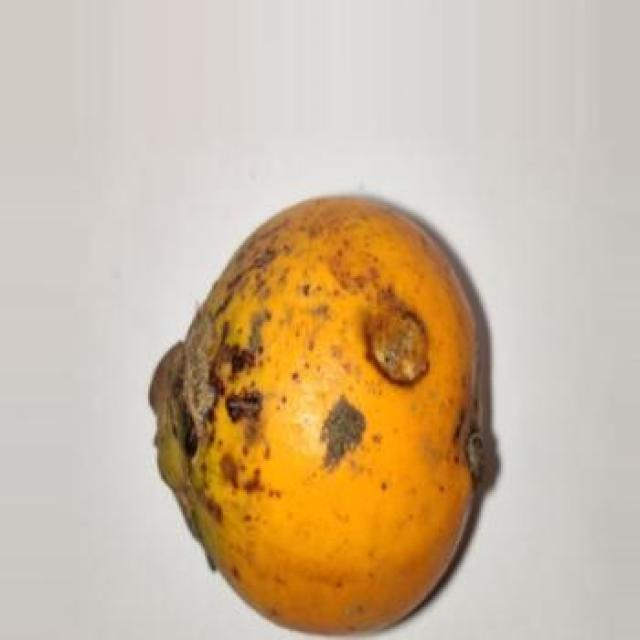good: (150, 196, 496, 638)
